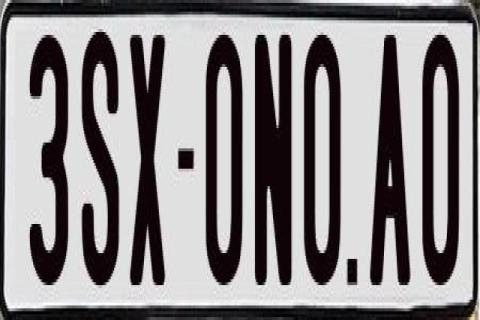0: (421, 35, 462, 294), (204, 32, 244, 288), (304, 26, 344, 276), (30, 32, 68, 288)
A: (368, 35, 410, 297)
N: (252, 29, 288, 294)
S: (81, 32, 123, 302)
X: (128, 29, 166, 288)
